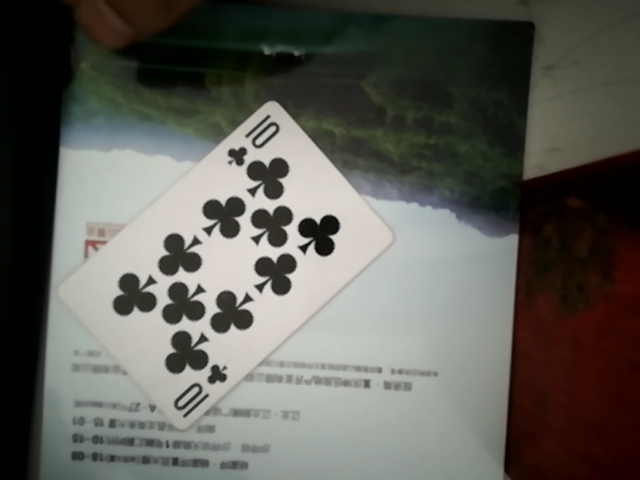mh 10: (60, 103, 387, 411)
